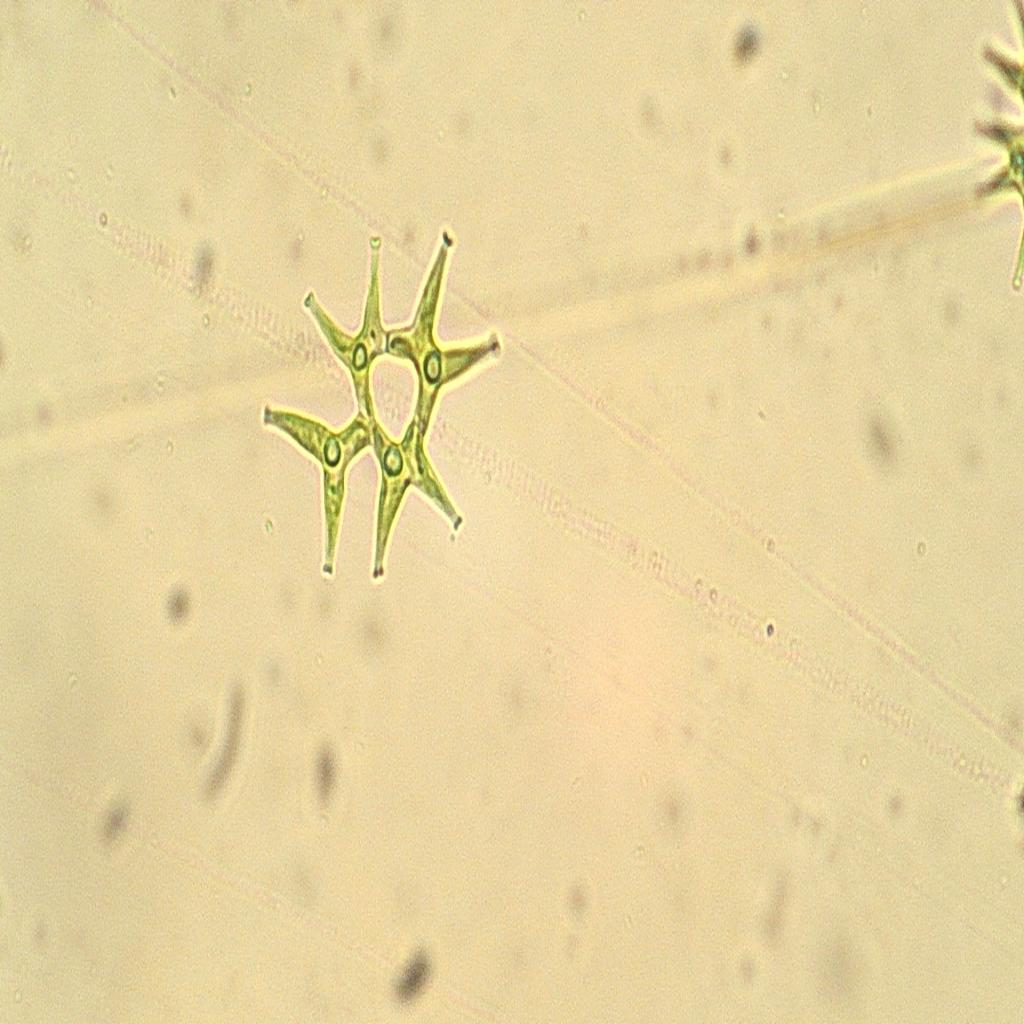Pediastrum_75FI: (242, 204, 532, 608)
